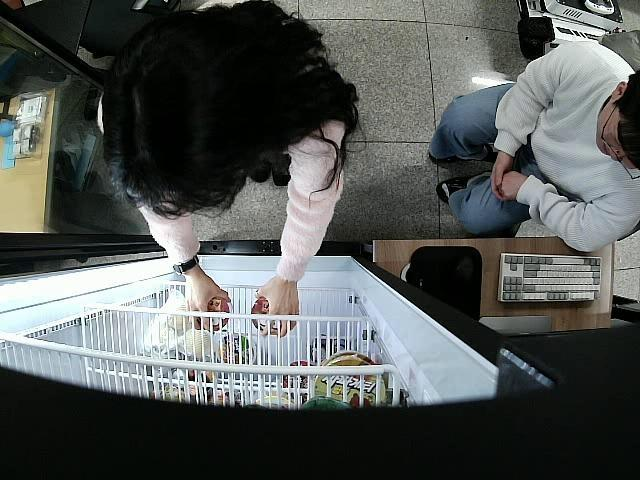06_nuguri_S: (250, 298, 282, 332), (197, 300, 230, 330)
